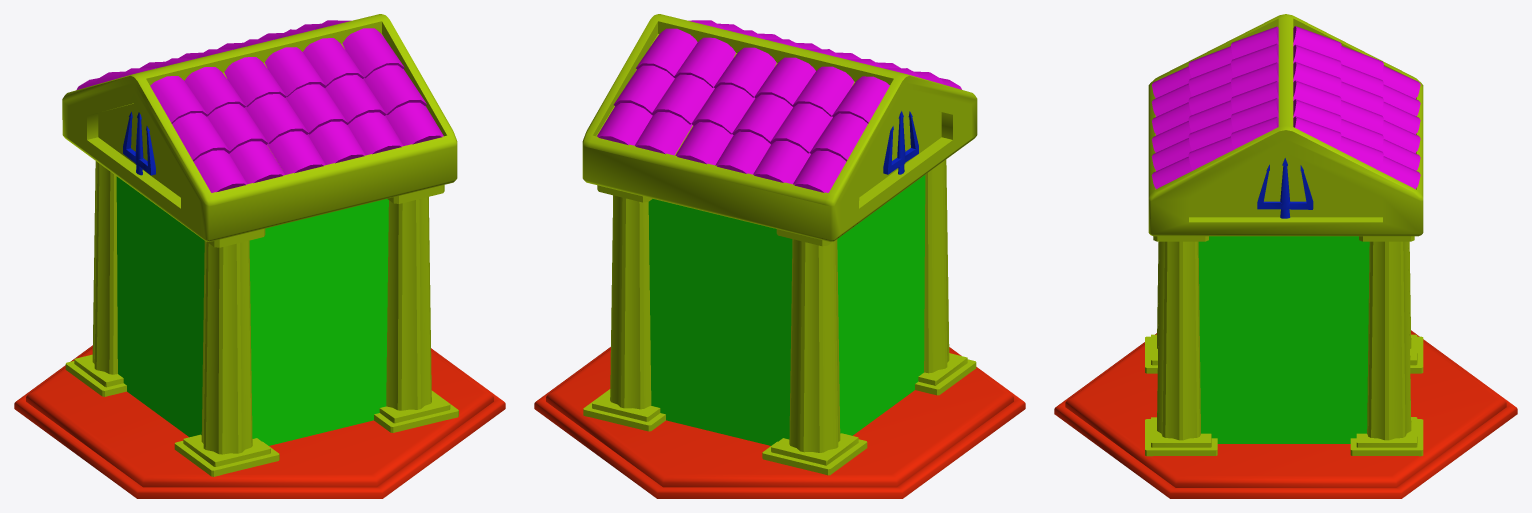
Rendered from FishbowlLevel2.fbx.
3 renders of one model, left to right at view 1: azimuth 30°, elevation 25°; view 2: azimuth 150°, elevation 25°; view 3: azimuth 270°, elevation 25°, orthographic. The views are drawn at different scales.
Parts seen in each view (by area): view 1: Fishbowl, Tiles, Columns, Roof, Base; view 2: Fishbowl, Tiles, Roof, Base, Columns; view 3: Fishbowl, Base, Tiles, Roof, Columns.
Part boxes in pixels (bbox=[...]): Fishbowl: bbox=[116, 176, 388, 445]; Tiles: bbox=[76, 20, 443, 192]; Columns: bbox=[65, 161, 458, 476]; Roof: bbox=[62, 14, 457, 241]; Base: bbox=[14, 345, 505, 498]; Fishbowl: bbox=[648, 175, 925, 445]; Tiles: bbox=[597, 20, 961, 192]; Roof: bbox=[582, 14, 977, 241]; Base: bbox=[534, 347, 1025, 498]; Columns: bbox=[583, 159, 976, 475]; Fishbowl: bbox=[1198, 236, 1369, 443]; Base: bbox=[1054, 330, 1517, 498]; Tiles: bbox=[1151, 26, 1420, 189]; Roof: bbox=[1148, 14, 1423, 236]; Columns: bbox=[1145, 236, 1423, 456].
Size of the model in its own units: 327 by 308 by 377.
